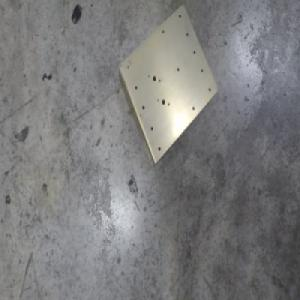MetalSheet: (117, 3, 218, 168)
